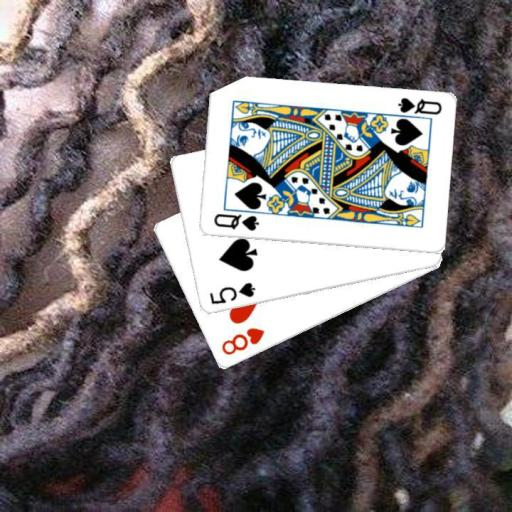5S: (206, 280, 257, 307)
8H: (218, 325, 266, 357)
QS: (211, 211, 261, 233), (394, 95, 443, 117)
